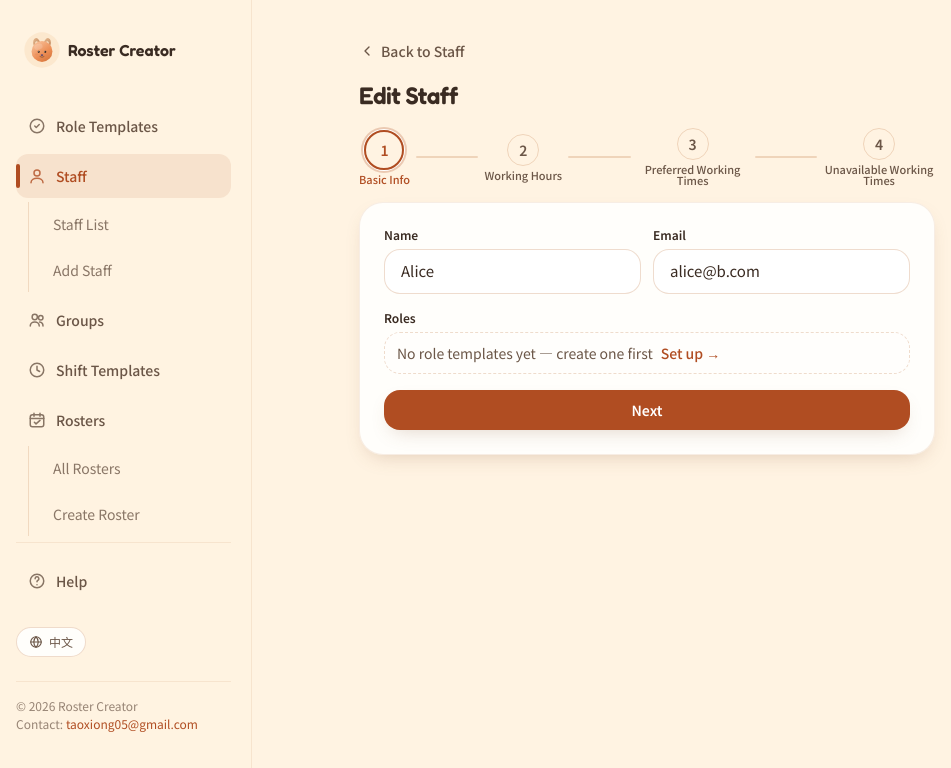
StaffEditPage › lets the user jump directly to any step via the stepper
Check: the field showing "Alice" is shown, box left=384, top=249, right=641, bottom=294
Jump forward from Basic Info straight to Preferred Working Times (skip steps)
Click the button named "Preferred Working Times" at coordinates (693, 144), box left=677, top=128, right=709, bottom=160
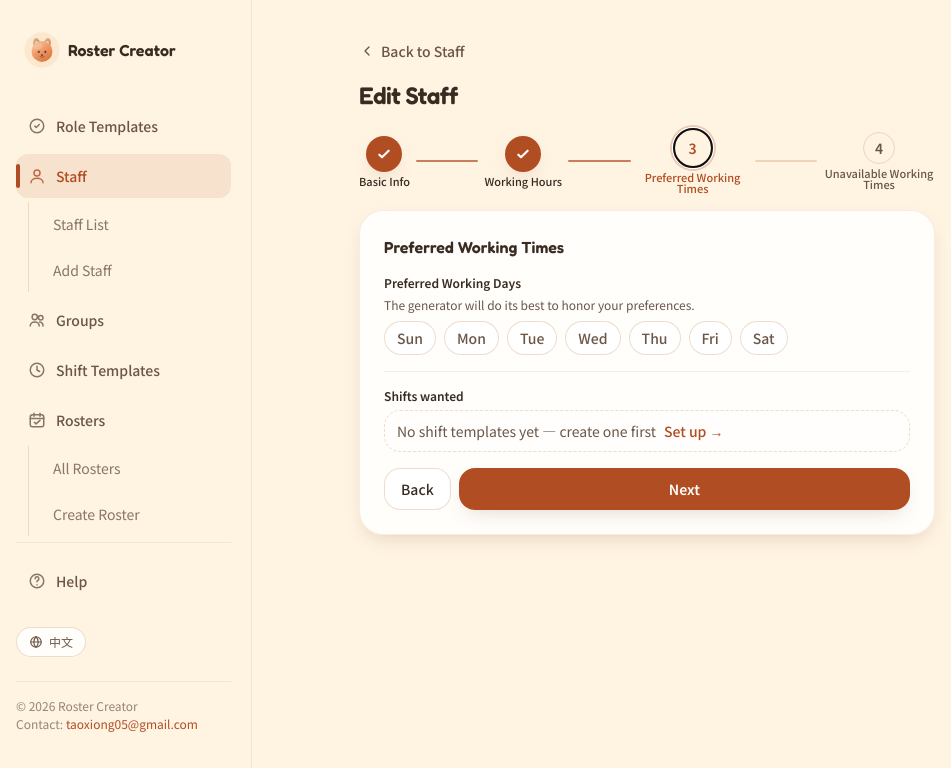
Check: the heading "Preferred Working Times" is shown, box left=384, top=237, right=564, bottom=257
Jump forward again to Unavailable Working Times
Click the button named "Unavailable Working Times" at coordinates (879, 148), box left=863, top=132, right=895, bottom=164
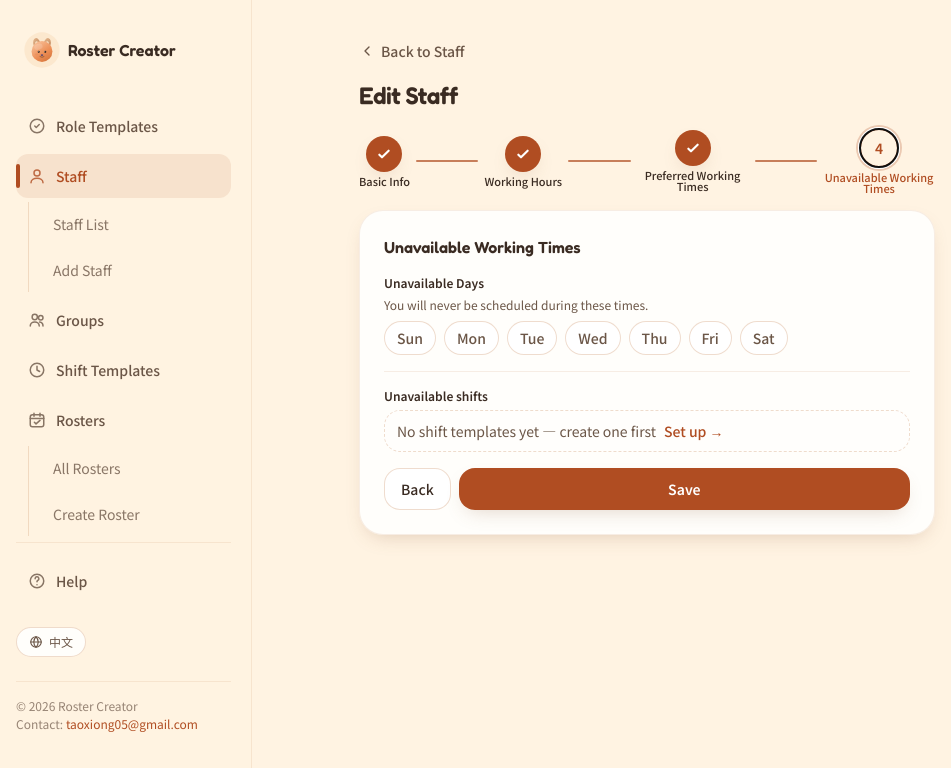
Check: the heading "Unavailable Working Times" is shown, box left=384, top=237, right=581, bottom=257
Jump backward to the first step
Click the button named "Basic Info" at coordinates (384, 154), box left=366, top=136, right=402, bottom=172
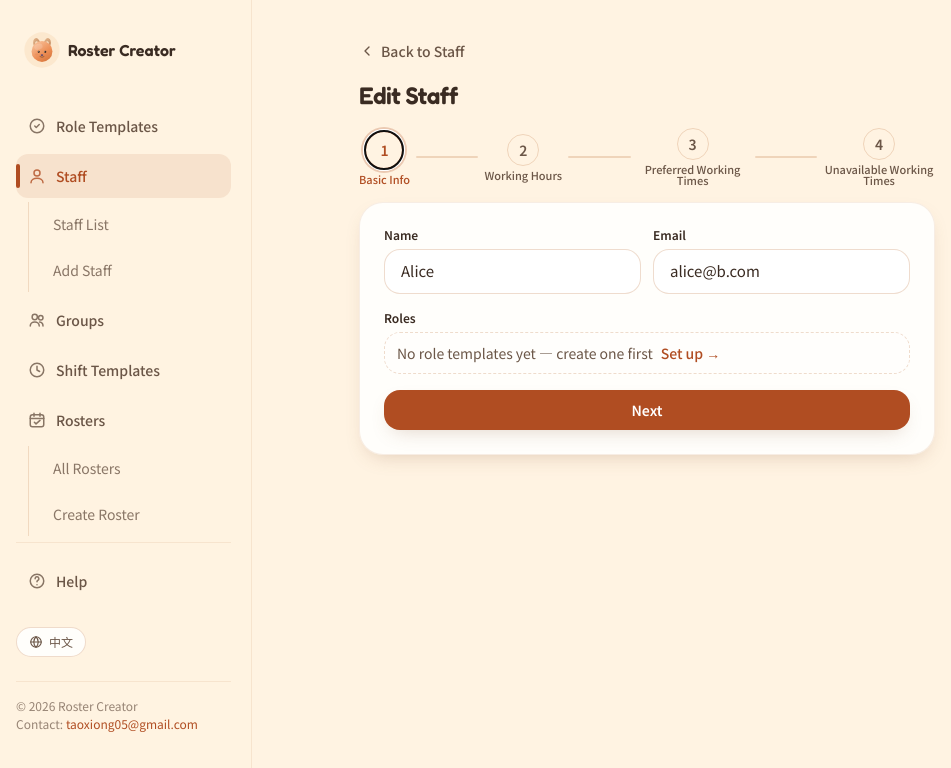
Check: the field labelled "Name" is shown, box left=384, top=249, right=641, bottom=294
